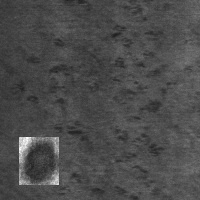patches: (19, 137, 59, 185)
rolled-in_scale: (99, 2, 178, 120), (103, 80, 176, 198), (25, 30, 83, 136)
